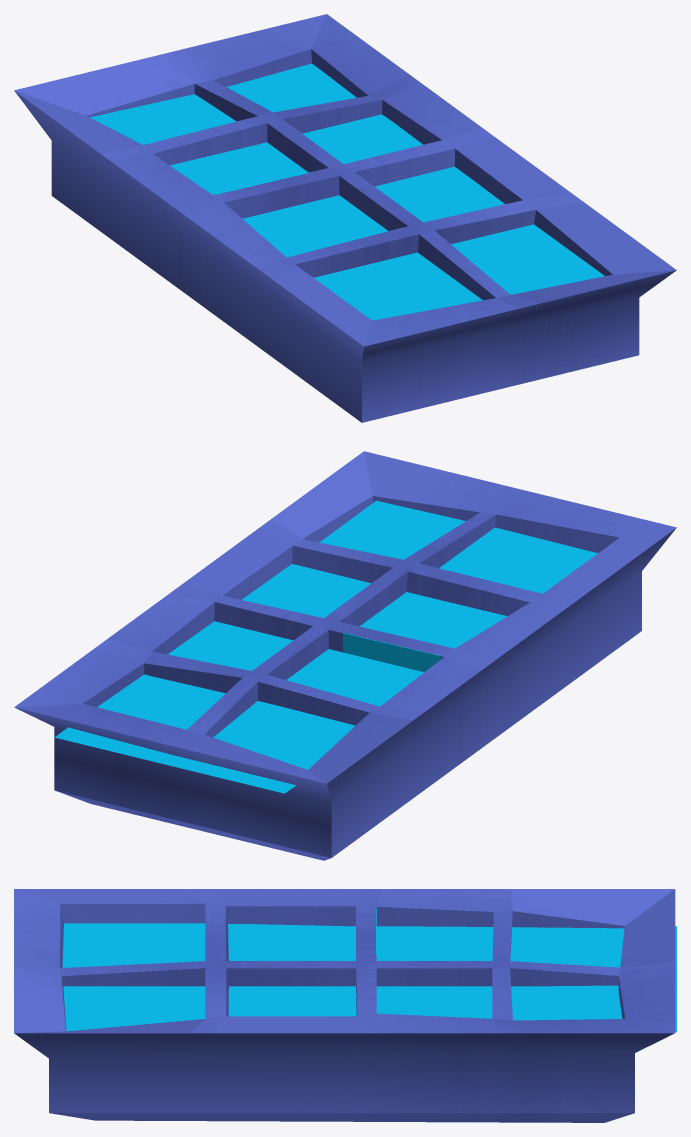
The model's file is IceCubes_TrayWater.fbx.
The picture shows the model from 3 angles, top to bottom: view 1: azimuth 30°, elevation 25°; view 2: azimuth 150°, elevation 25°; view 3: azimuth 270°, elevation 25°; orthographic projection. The views are drawn at different scales.
Visible parts, largest first — view 1: CubeTray; view 2: CubeTray; view 3: CubeTray.
Part boxes in pixels (left/top/right/bottom): CubeTray: left=14, top=14, right=676, bottom=422; CubeTray: left=14, top=451, right=676, bottom=860; CubeTray: left=14, top=889, right=676, bottom=1122.
Bounding box in the file's own units: 23.85 × 8.43 × 46.34.
